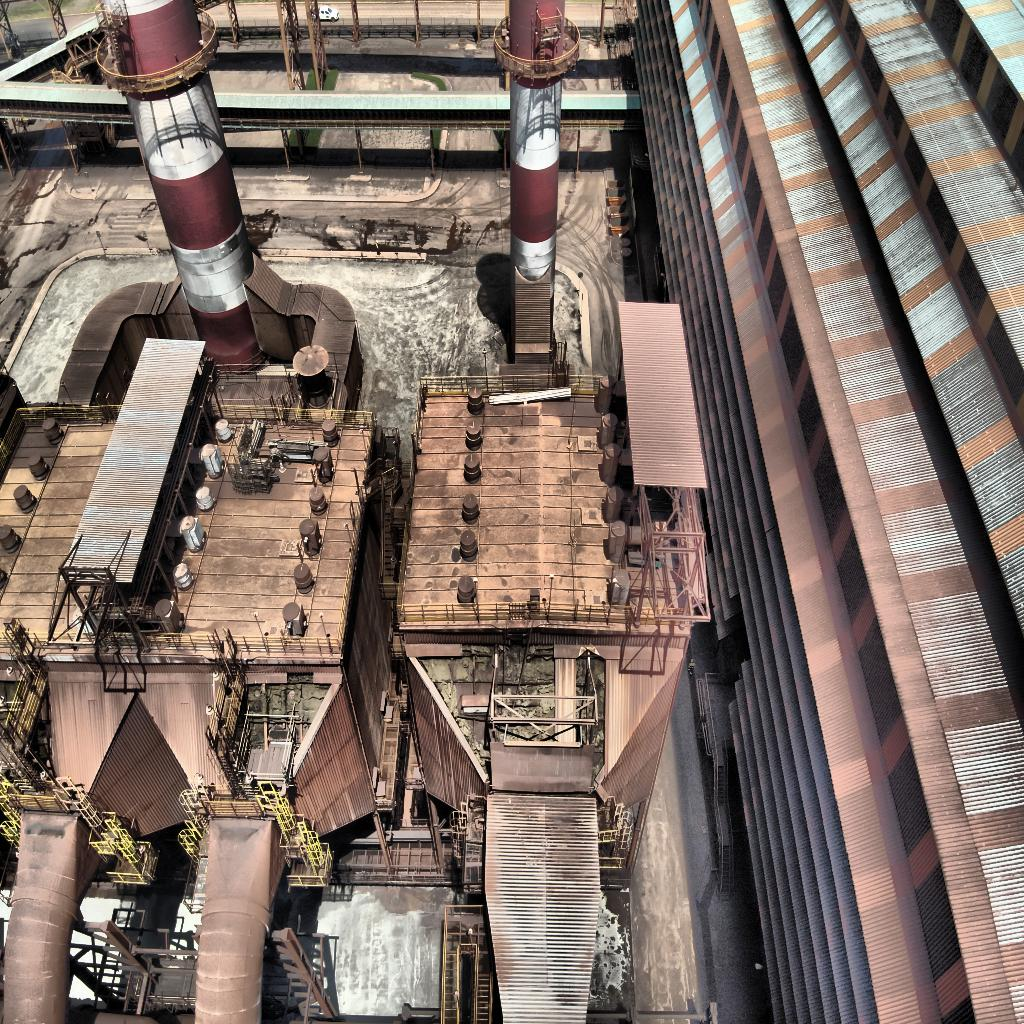Failures: (410, 640, 562, 794), (242, 666, 336, 784), (573, 649, 609, 791)
